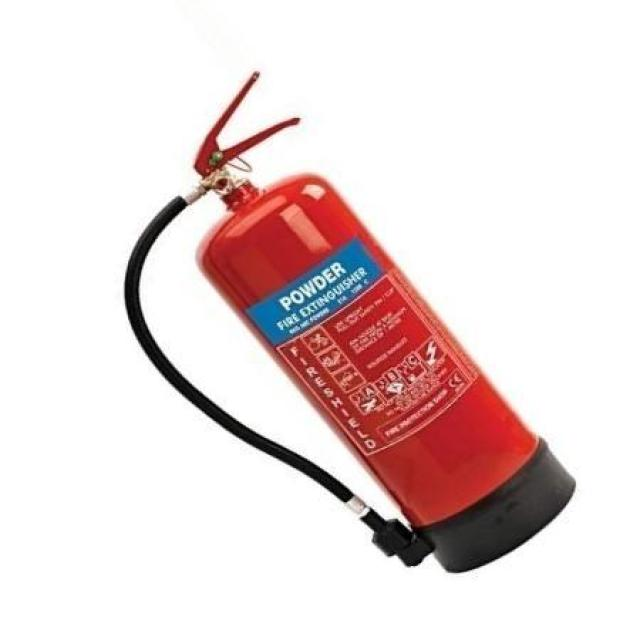fire_extinguisher: (117, 64, 578, 576)
